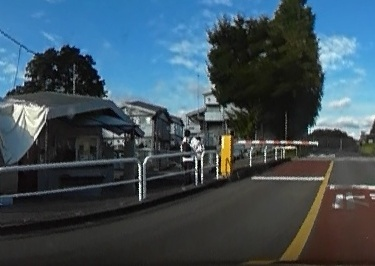person: (180, 127, 194, 176)
